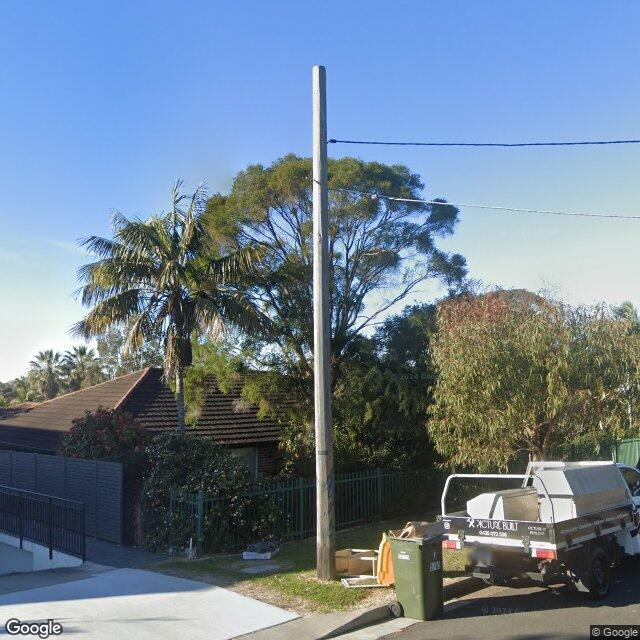timber-pole: (312, 66, 333, 576)
